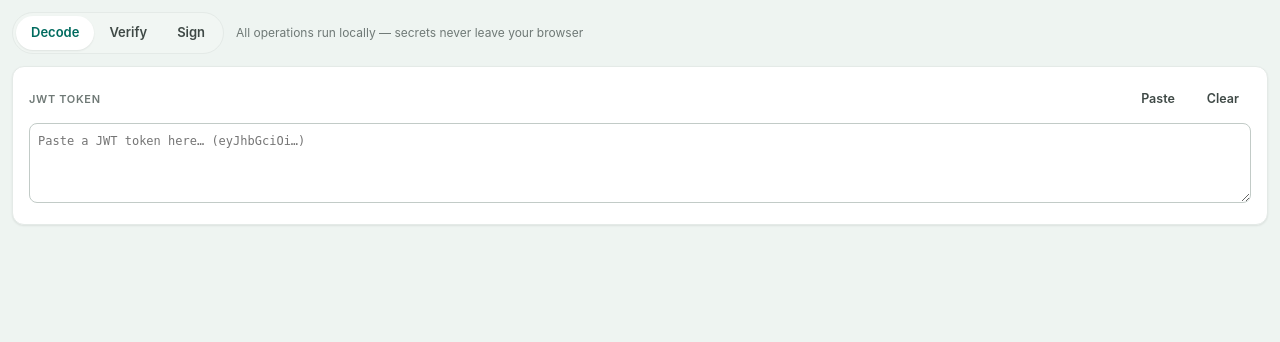
Scenario: JWT page › Sign mode › switches to Sign mode and shows payload textarea
Click the button "Sign": [191, 33] box [162, 16, 220, 50]
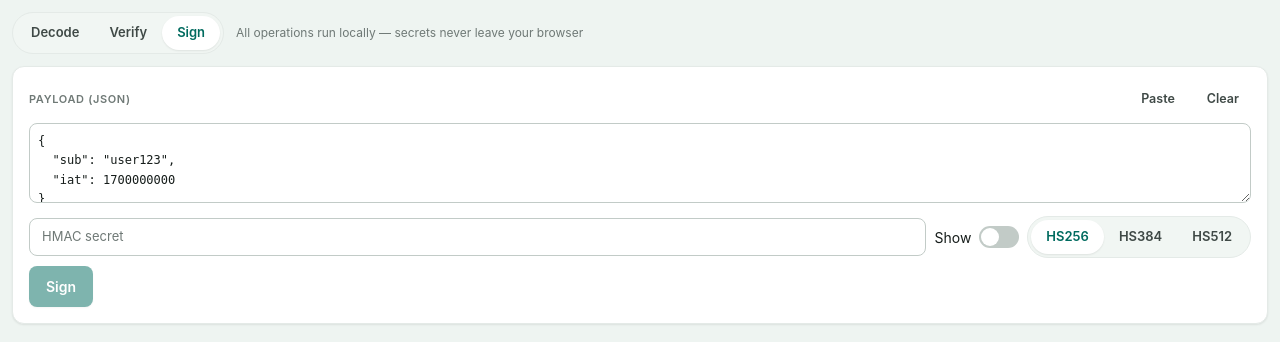
Expected: the text box with test id "jwt-sign-payload" is shown, [29, 123, 1251, 203]
